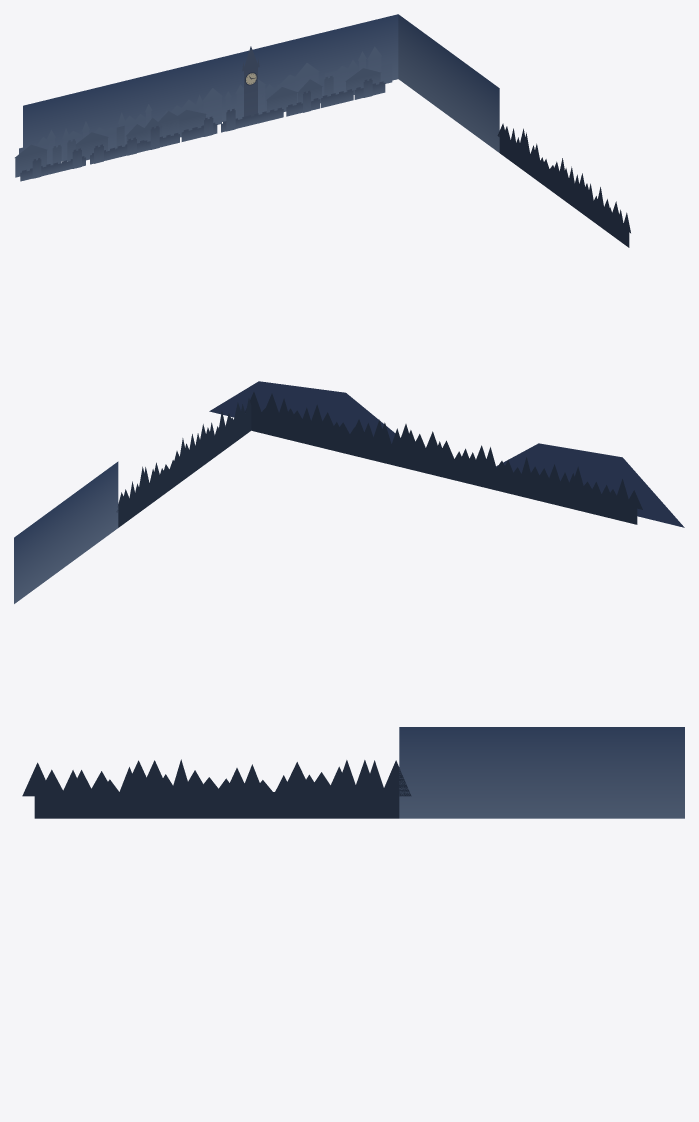
File: backdrop.glb
3 renders of one model, top to bottom at view 1: azimuth 30°, elevation 25°; view 2: azimuth 150°, elevation 25°; view 3: azimuth 270°, elevation 25°, orthographic. The views are drawn at different scales.
Visible parts, largest first — view 1: glow; view 2: glow; view 3: glow.
Part boxes in pixels (x1,y1,x2,y2): glow: (15,14,630,247); glow: (14,381,684,603); glow: (22,727,684,818).
Bounding box in the file's own units: 153 × 24.06 × 136.
